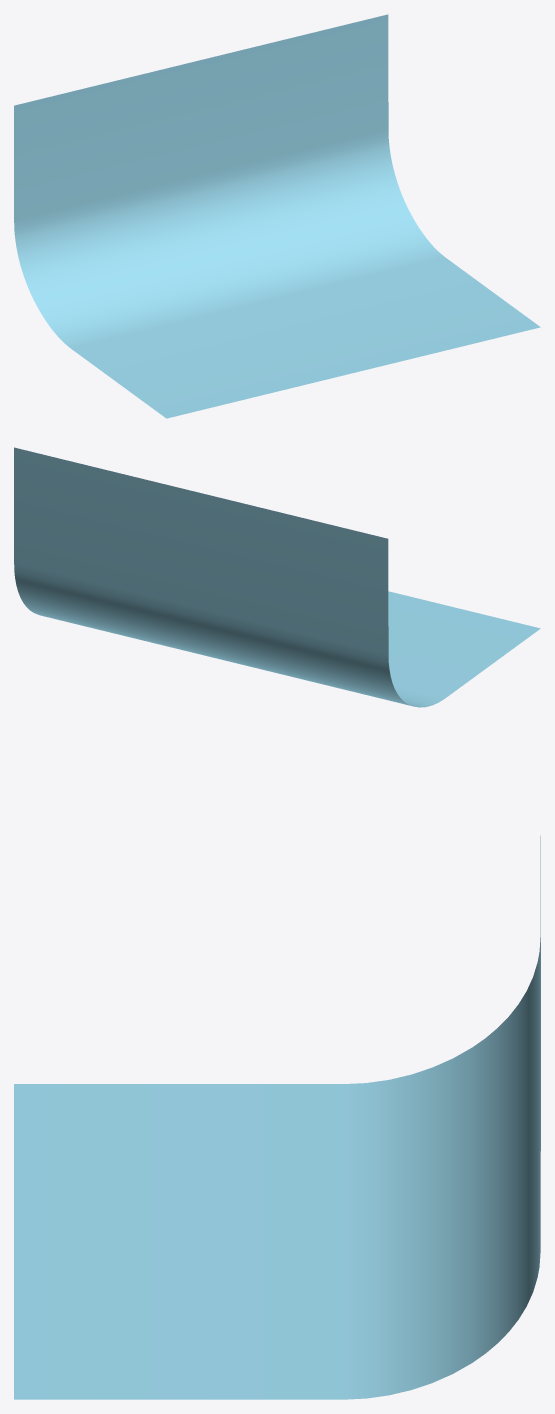
The model's file is Licht_Test.dae.
The picture shows the model from 3 angles, top to bottom: view 1: azimuth 30°, elevation 25°; view 2: azimuth 150°, elevation 25°; view 3: azimuth 270°, elevation 25°; orthographic projection. The views are drawn at different scales.
Visible parts, largest first — view 1: Holkehle; view 2: Holkehle; view 3: Holkehle.
Boxes of the visible parts, box(x1,y1,x2,y2) form: Holkehle: box(14, 14, 540, 418); Holkehle: box(14, 447, 540, 707); Holkehle: box(14, 836, 540, 1399).
Bounding box in the file's own units: 780 × 401 × 551.
